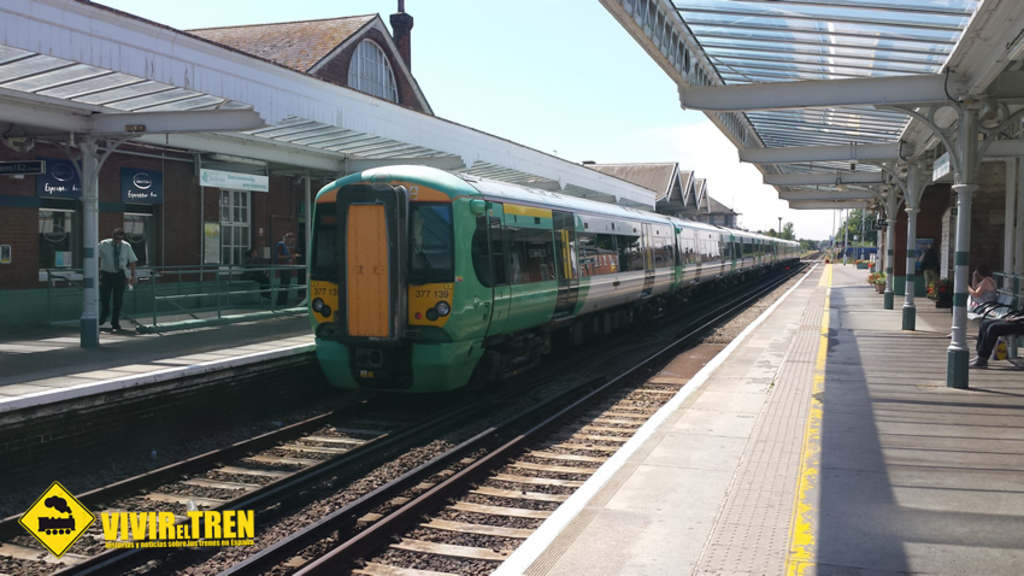train: (305, 163, 801, 395)
